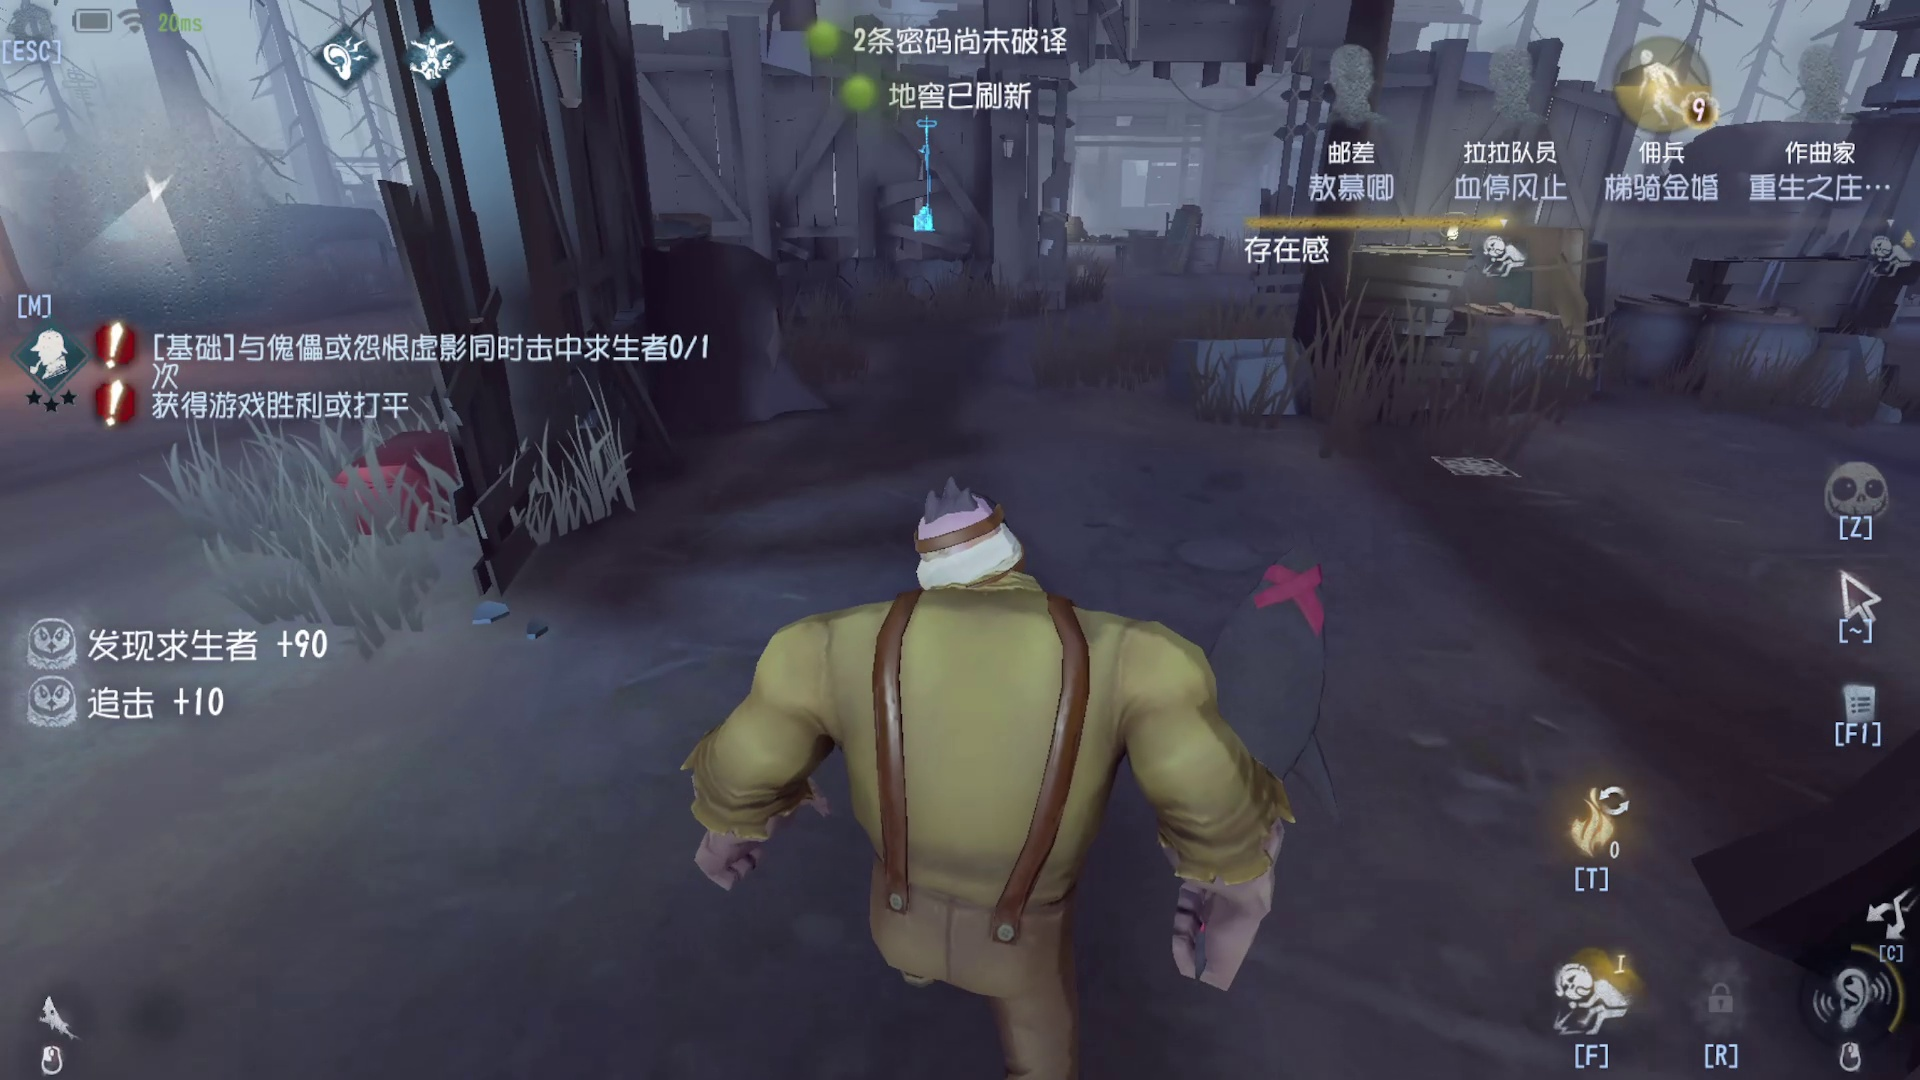密码机: (884, 94, 977, 258)
木板: (1455, 193, 1629, 415)
